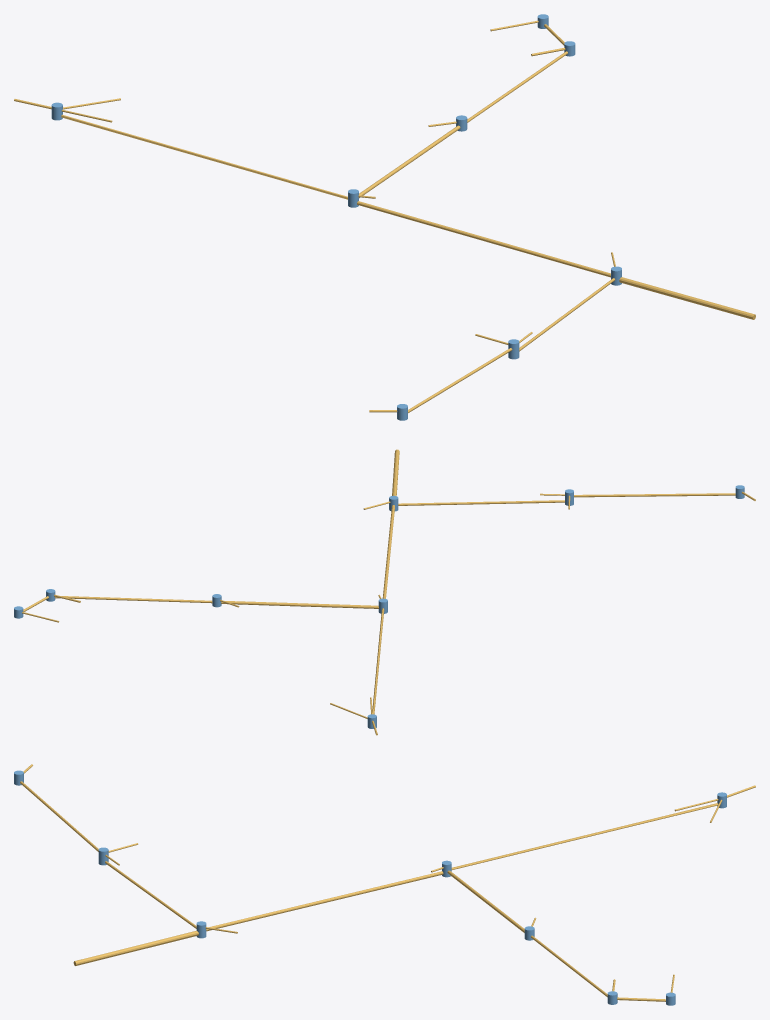
The model's file is 500125-CSSP001-780-XX-MD-ST-000212.glb.
3 renders of one model, top to bottom at view 1: azimuth 30°, elevation 25°; view 2: azimuth 150°, elevation 25°; view 3: azimuth 270°, elevation 25°, orthographic. The views are drawn at different scales.
Visible parts, largest first — view 1: 500125-CSSP001-780-XX-MD-ST-000212#TUB012, 500125-CSSP001-780-XX-MD-ST-000212#TUB007, 500125-CSSP001-780-XX-MD-ST-000212#TUB015; view 2: 500125-CSSP001-780-XX-MD-ST-000212#TUB010, 500125-CSSP001-780-XX-MD-ST-000212#TUB014, 500125-CSSP001-780-XX-MD-ST-000212#TUB018; view 3: 500125-CSSP001-780-XX-MD-ST-000212#TUB012, 500125-CSSP001-780-XX-MD-ST-000212#TUB007, 500125-CSSP001-780-XX-MD-ST-000212#TUB015.
Part boxes in pixels (x1,y1,x2,y2): 500125-CSSP001-780-XX-MD-ST-000212#TUB012: (357, 201, 610, 277); 500125-CSSP001-780-XX-MD-ST-000212#TUB007: (61, 114, 347, 199); 500125-CSSP001-780-XX-MD-ST-000212#TUB015: (619, 277, 755, 319); 500125-CSSP001-780-XX-MD-ST-000212#TUB010: (221, 601, 378, 608); 500125-CSSP001-780-XX-MD-ST-000212#TUB014: (398, 500, 564, 505); 500125-CSSP001-780-XX-MD-ST-000212#TUB018: (574, 493, 735, 497); 500125-CSSP001-780-XX-MD-ST-000212#TUB012: (206, 871, 443, 931); 500125-CSSP001-780-XX-MD-ST-000212#TUB007: (451, 803, 718, 869); 500125-CSSP001-780-XX-MD-ST-000212#TUB015: (73, 930, 198, 965).
Size of the model in its own units: 112 by 5.98 by 150.
